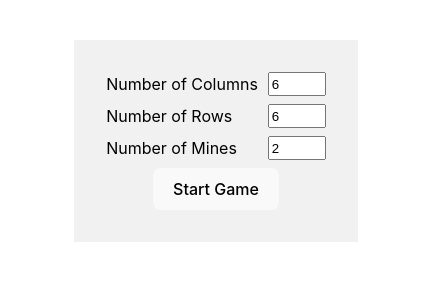
Test case: GameSettings Component test suite › shows error for number of columns less than or equal to 0
Replace the text in the number field with placeholder "Number of Columns" next to "Number of Columns" with "0" at (297, 84), box 268,72 -> 326,96
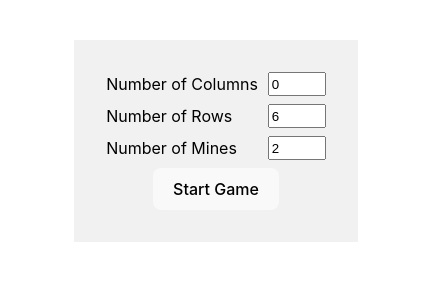
Click the button "Start Game" at (216, 189), box 153,168 -> 279,210
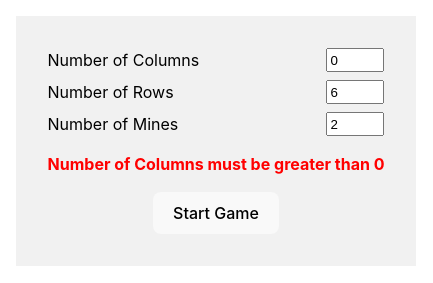
Now the text "Number of Columns must be greater than 0" is shown, box 48,152 -> 384,176
